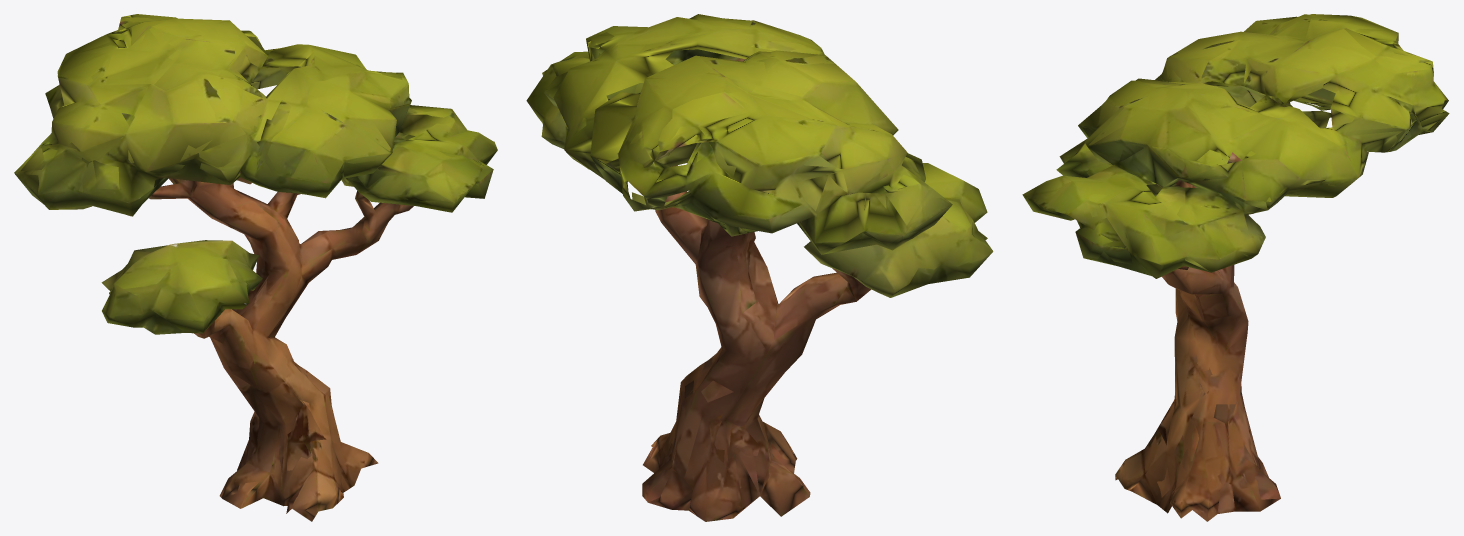
Rendered from tree_desert_acacia.glb.
3 views of the same model, side by side, from view 1: azimuth 30°, elevation 25°; view 2: azimuth 150°, elevation 25°; view 3: azimuth 270°, elevation 25° (orthographic). The views are drawn at different scales.
Visible parts, largest first — view 1: BakeLow; view 2: BakeLow; view 3: BakeLow.
Boxes of the visible parts, x1,y1,x2,y2 form: BakeLow: (14,14,497,521); BakeLow: (526,14,993,521); BakeLow: (1022,14,1449,521).
Size of the model in its own units: 0.8451 by 0.8368 by 0.7496.
1 material, 1 textured.
